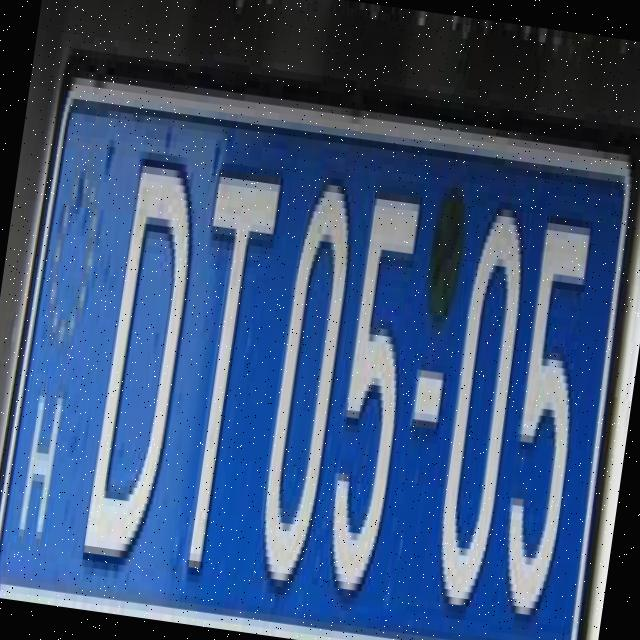EU: (0, 53, 640, 640)
Hongrie: (0, 105, 129, 582)
